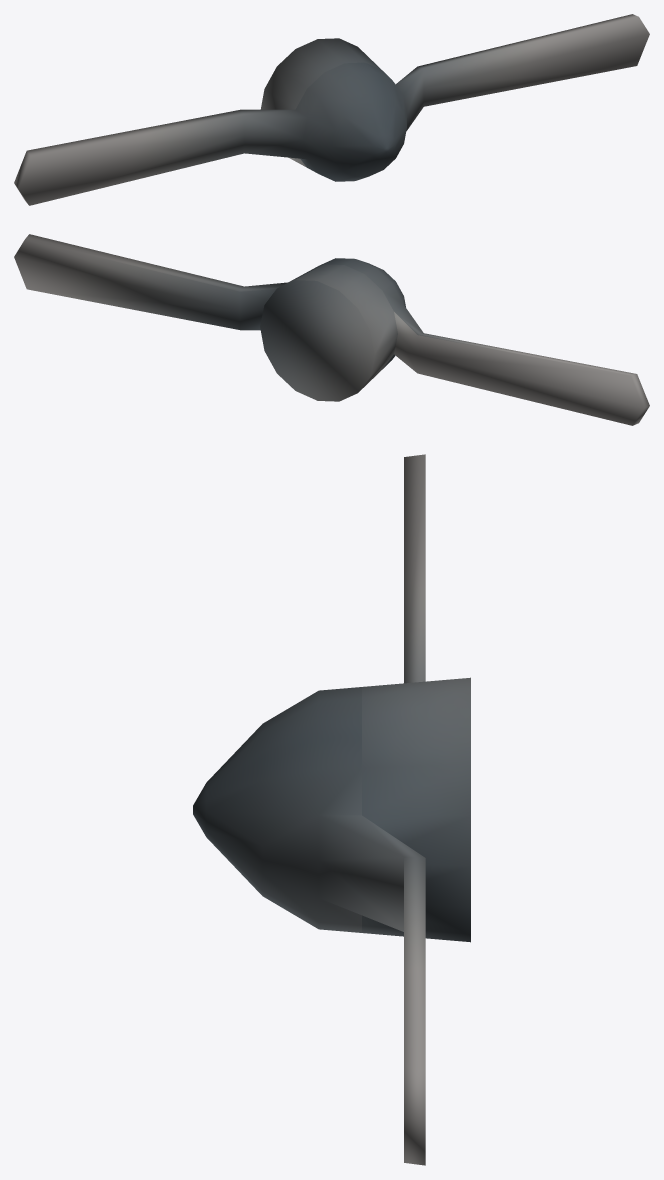
The model's file is Slocum-Glider-Propeller.dae.
3 views of the same model, one above another, from view 1: azimuth 30°, elevation 25°; view 2: azimuth 150°, elevation 25°; view 3: azimuth 270°, elevation 25° (orthographic). The views are drawn at different scales.
Parts seen in each view (by area): view 1: Propeller; view 2: Propeller; view 3: Propeller.
Part boxes in pixels (bbox=[...]): Propeller: bbox=[14, 14, 649, 205]; Propeller: bbox=[14, 234, 649, 425]; Propeller: bbox=[193, 454, 470, 1165].
Size of the model in its own units: 0.2726 by 0.052 by 0.0494.
